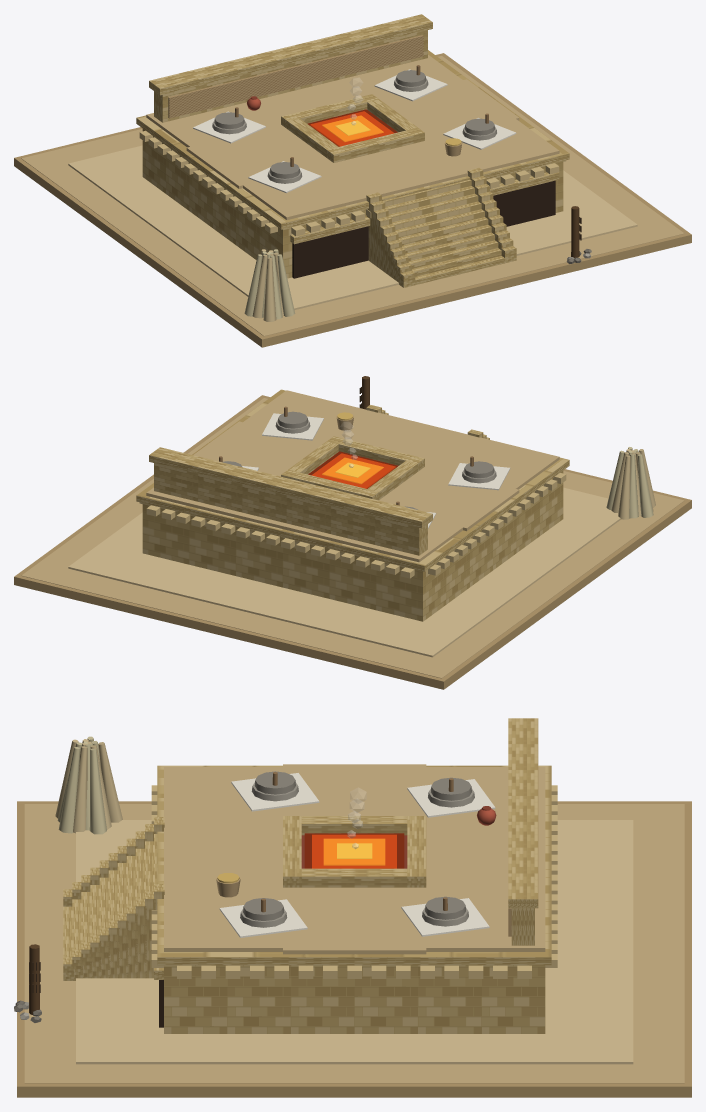
Rendered from townhall-neolithic-built.glb.
3 renders of one model, top to bottom at view 1: azimuth 30°, elevation 25°; view 2: azimuth 150°, elevation 25°; view 3: azimuth 270°, elevation 25°, orthographic. The views are drawn at different scales.
Bounding box in the file's own units: 23 × 6.35 × 23.11.
37 materials, 9 textured.
